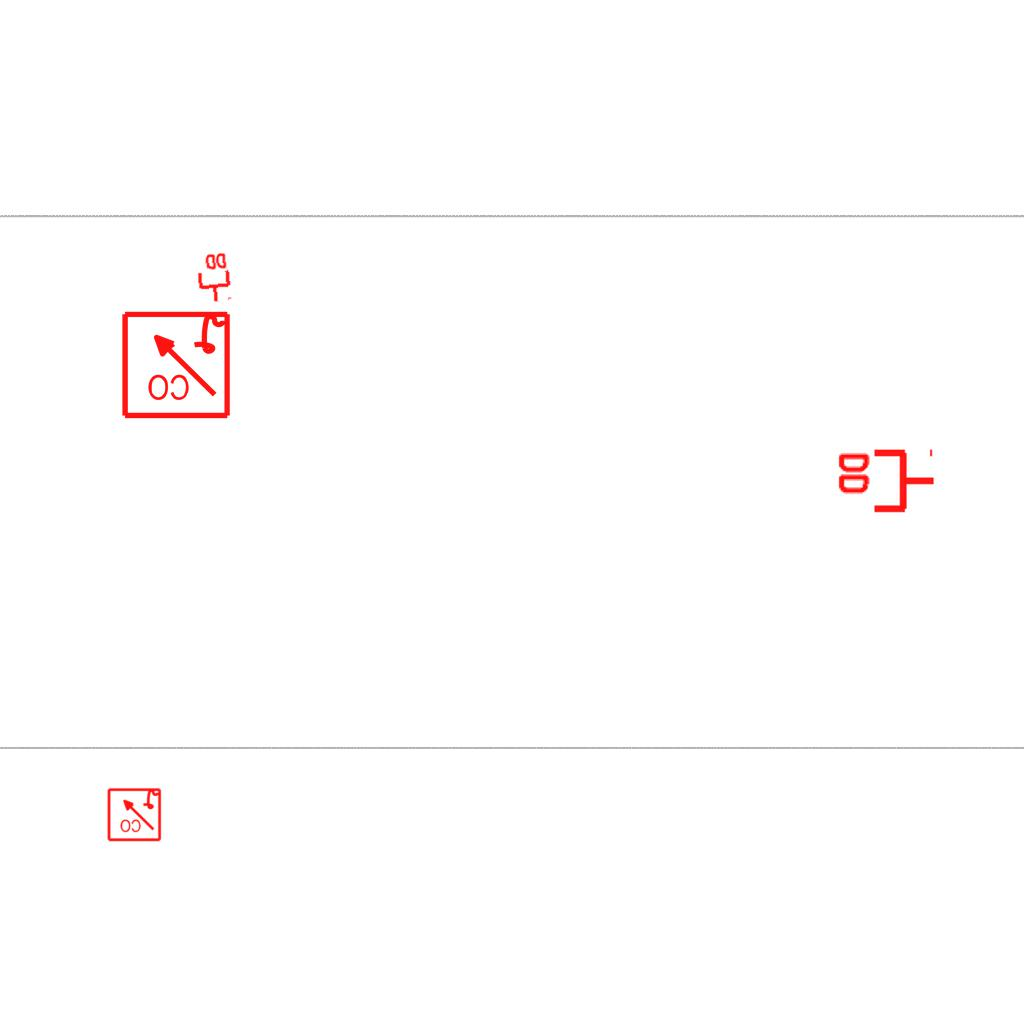Datenanschluss_zweifach: (834, 448, 937, 517), (193, 250, 233, 305)
ROA_Rauchmelder_optisch_mit_Signalgeber_(Sockelsirene): (119, 307, 232, 420), (106, 786, 162, 842)
